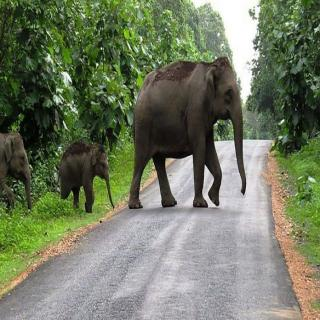Elephant: (128, 56, 252, 210), (54, 140, 116, 214)
